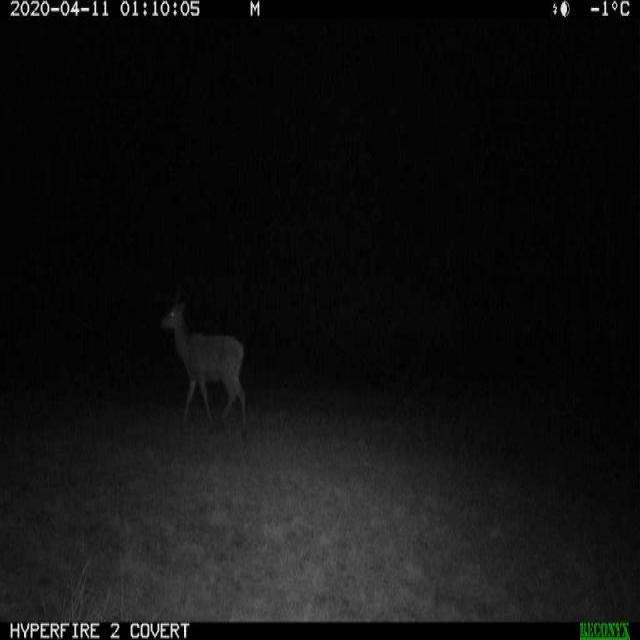deer: (146, 274, 262, 450), (17, 277, 108, 432)
